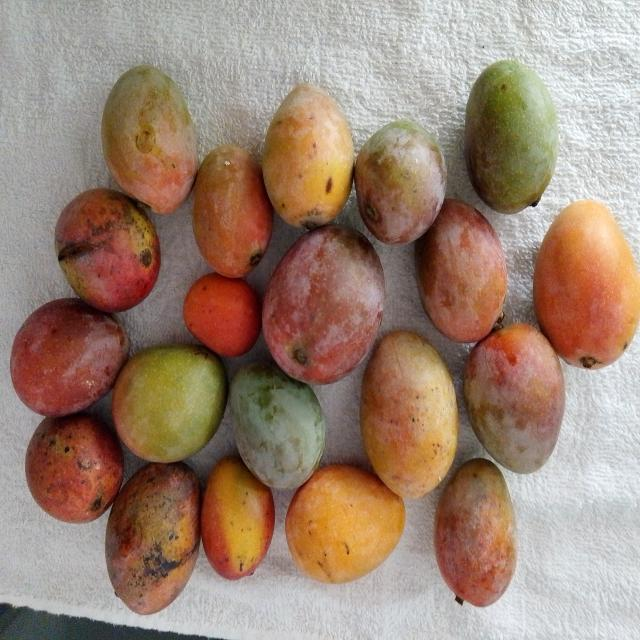mango: (263, 224, 384, 383), (534, 200, 639, 369), (360, 331, 458, 498), (464, 324, 565, 473), (10, 295, 133, 417), (105, 463, 200, 614), (285, 465, 405, 583), (465, 61, 558, 213), (102, 66, 198, 213), (112, 345, 227, 462), (263, 84, 354, 229), (415, 199, 506, 342), (55, 189, 160, 312), (434, 459, 517, 606), (22, 409, 124, 526), (230, 364, 325, 489), (355, 121, 446, 243), (192, 145, 273, 278), (201, 457, 274, 579)
